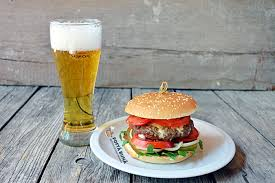hamburger: (122, 89, 205, 163)
